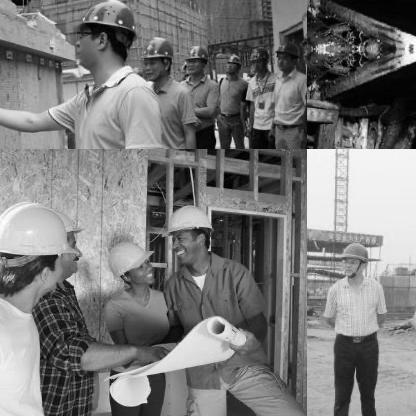Helmet: (0, 200, 68, 291), (76, 0, 133, 70), (162, 202, 212, 264), (104, 240, 158, 282), (48, 205, 80, 275), (142, 35, 174, 80), (337, 237, 371, 279), (184, 43, 209, 77), (273, 37, 297, 69), (248, 44, 266, 72), (223, 51, 242, 75), (298, 23, 306, 63)
